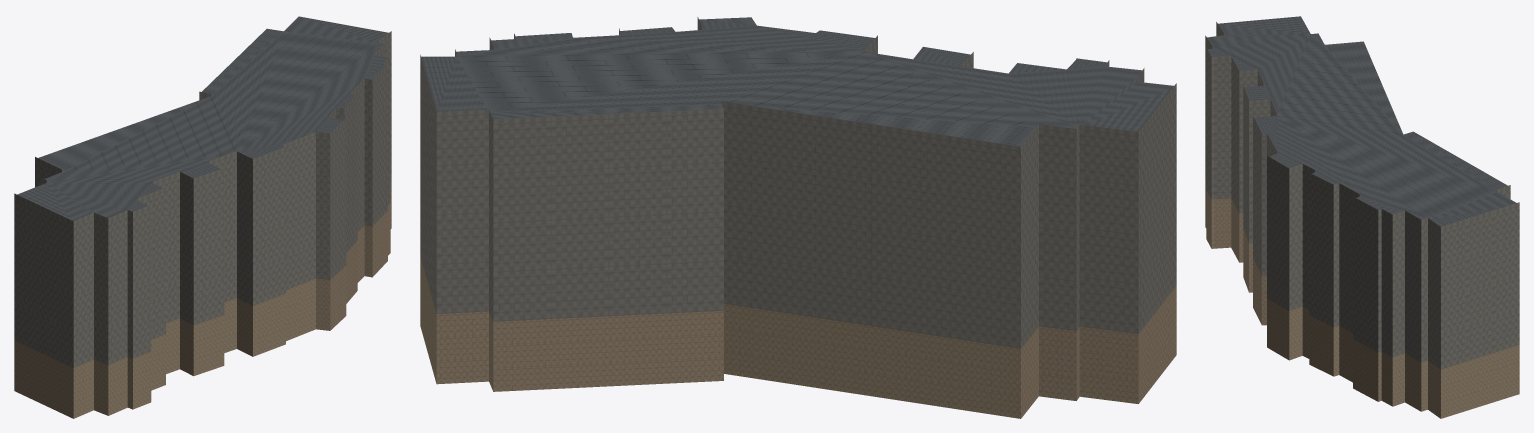
File: core_0105.gltf
3 views of the same model, side by side, from view 1: azimuth 30°, elevation 25°; view 2: azimuth 150°, elevation 25°; view 3: azimuth 270°, elevation 25° (orthographic). The views are drawn at different scales.
Visible parts, largest first — view 1: core_0105; view 2: core_0105; view 3: core_0105.
Boxes of the visible parts, box(x1,y1,x2,y2) form: core_0105: box(14, 16, 391, 418); core_0105: box(420, 17, 1176, 418); core_0105: box(1205, 16, 1519, 418).
Size of the model in its own units: 47.07 by 19.78 by 29.34.
3 materials, 3 textured.
